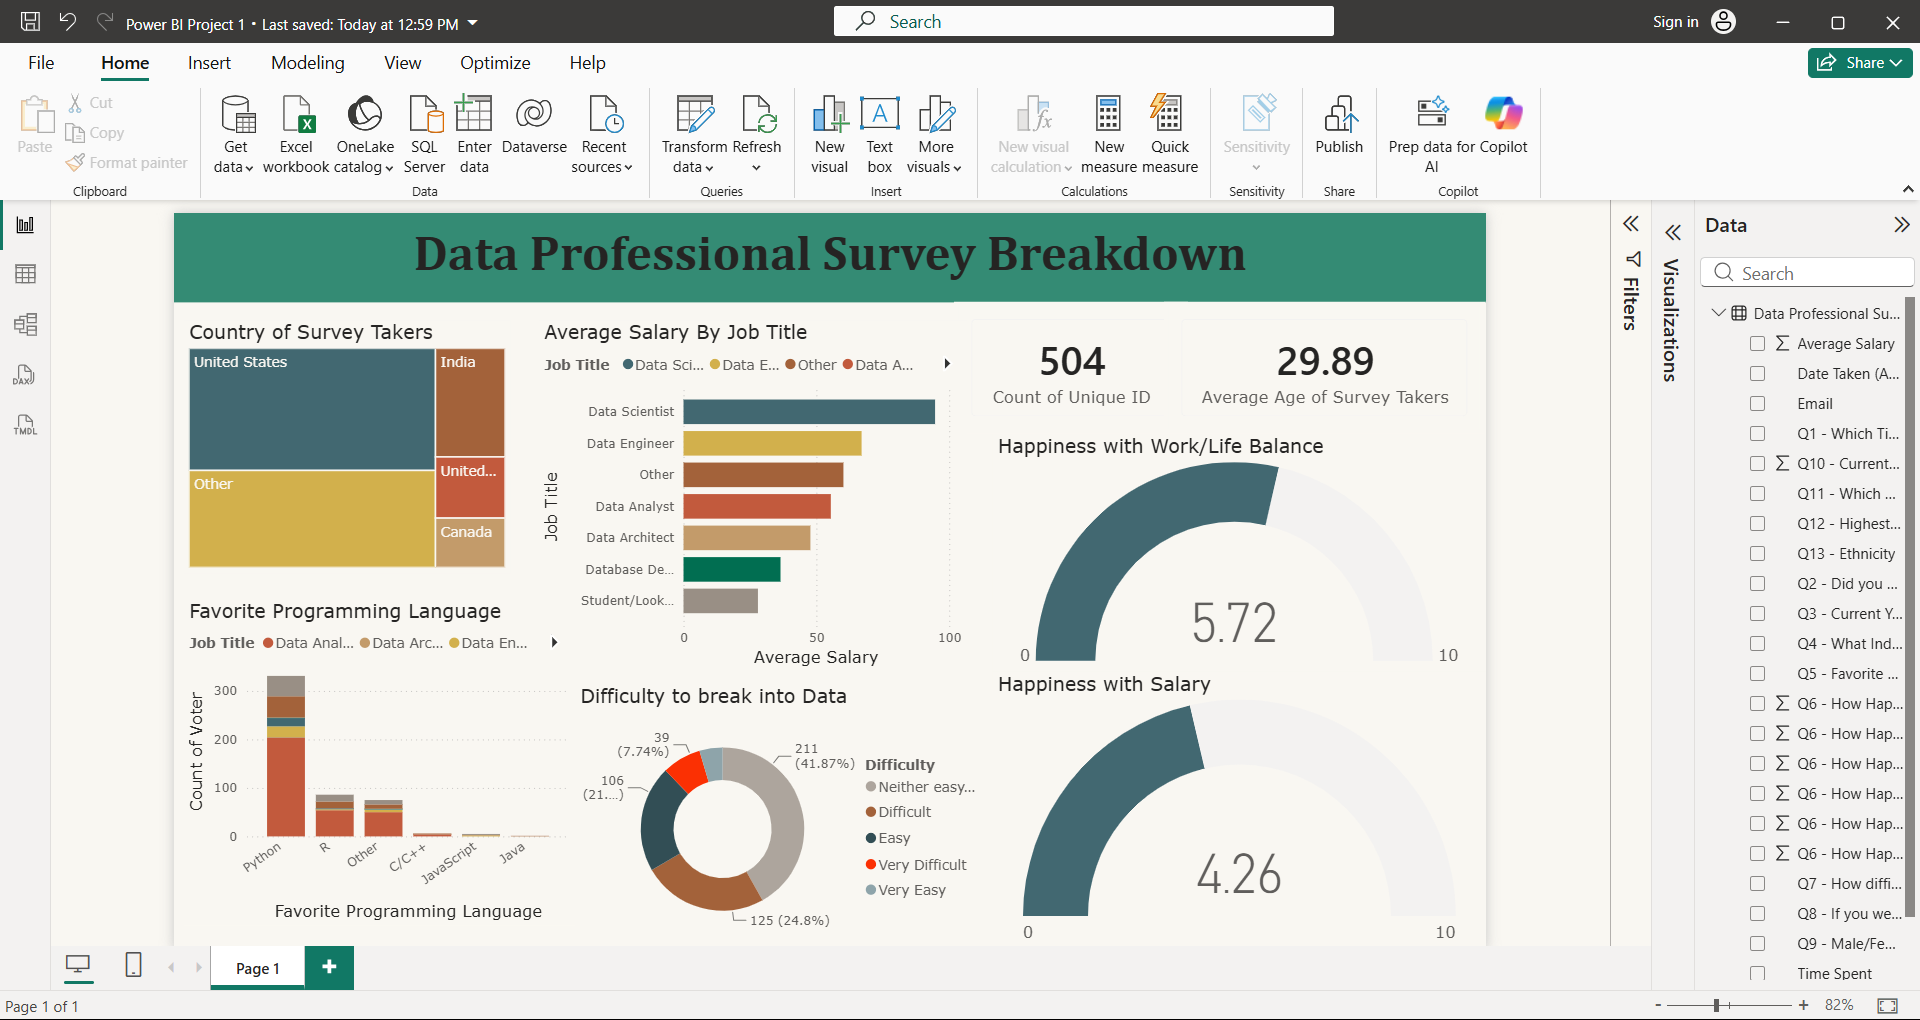

The dashboard page shown, as its layout file describes it:
{"tool":"powerbi","page":{"name":"Page 1","canvas":[1280,720],"ordinal":0},"visuals":[{"type":"textbox","box":[0,0,1280.3,86.8],"z":0},{"type":"cardVisual","fields":{"Data":["CountNonNull(Data Professional Survey.Unique ID)"]},"box":[761.3,86.9,228,129.1],"z":1000},{"type":"cardVisual","fields":{"Data":["Avg(Data Professional Survey.Q10 - Current Age)"]},"box":[966.4,86.9,313.7,129.1],"z":2000},{"type":"barChart","title":"Average Salary By Job Title","fields":{"Category":["Data Professional Survey.Q1 - Which Title Best Fits your Current Role?.1"],"Y":["Avg(Data Professional Survey.Average Salary)"],"Series":["Data Professional Survey.Q1 - Which Title Best Fits your Current Role?.1"]},"box":[355.9,105,417.4,342.6],"z":3000},{"type":"columnChart","title":"Favorite Programming Language","fields":{"Category":["Data Professional Survey.Q5 - Favorite Programming Language.1"],"Y":["CountNonNull(Data Professional Survey.Unique ID)"],"Series":["Data Professional Survey.Q1 - Which Title Best Fits your Current Role?.1"]},"box":[9.7,376.4,381.2,318.5],"z":4000},{"type":"treemap","title":"Country of Survey Takers","fields":{"Group":["Data Professional Survey.Q11 - Which Country do you live in?.1"],"Values":["CountNonNull(Data Professional Survey.Q11 - Which Country do you live in?.1)"]},"box":[9.7,105,318.5,246.1],"z":5000},{"type":"gauge","title":"Happiness with Work/Life Balance","fields":{"Y":["Avg(Data Professional Survey.Q6 - How Happy are you in your Current Position with the following? (Work/Life Balance))"],"MinValue":["Min(Data Professional Survey.Q6 - How Happy are you in your Current Position with the following? (Work/Life Balance))"],"MaxValue":["Max(Data Professional Survey.Q6 - How Happy are you in your Current Position with the following? (Work/Life Balance))1"]},"box":[798.5,216.4,481.8,231.1],"z":6000},{"type":"gauge","title":"Happiness with Salary","fields":{"Y":["Avg(Data Professional Survey.Q6 - How Happy are you in your Current Position with the following? (Salary))"],"MinValue":["Min(Data Professional Survey.Q6 - How Happy are you in your Current Position with the following? (Salary))"],"MaxValue":["Max(Data Professional Survey.Q6 - How Happy are you in your Current Position with the following? (Salary))"]},"box":[798.5,447.6,481.8,272.7],"z":7000},{"type":"donutChart","title":"Difficulty to break into Data","fields":{"Category":["Data Professional Survey.Q7 - How difficult was it for you to break into Data?"],"Y":["CountNonNull(Data Professional Survey.Q7 - How difficult was it for you to break into Data?)"]},"box":[390.9,459.7,407.8,260.6],"z":8000}]}

Visuals, with their boxes on the page's 1280x720 design canvas (x1, y1, x2, y2). These are canvas units, not pixel positions in the 1920x1020 screenshot, which may show the page scaled, cropped or inside an application window:
textbox: (x1=0, y1=0, x2=1280, y2=87)
cardVisual - CountNonNull(Data Professional Survey.Unique ID): (x1=761, y1=87, x2=989, y2=216)
cardVisual - Avg(Data Professional Survey.Q10 - Current Age): (x1=966, y1=87, x2=1280, y2=216)
"Average Salary By Job Title" barChart: (x1=356, y1=105, x2=773, y2=448)
"Favorite Programming Language" columnChart: (x1=10, y1=376, x2=391, y2=695)
"Country of Survey Takers" treemap: (x1=10, y1=105, x2=328, y2=351)
"Happiness with Work/Life Balance" gauge: (x1=798, y1=216, x2=1280, y2=448)
"Happiness with Salary" gauge: (x1=798, y1=448, x2=1280, y2=720)
"Difficulty to break into Data" donutChart: (x1=391, y1=460, x2=799, y2=720)
